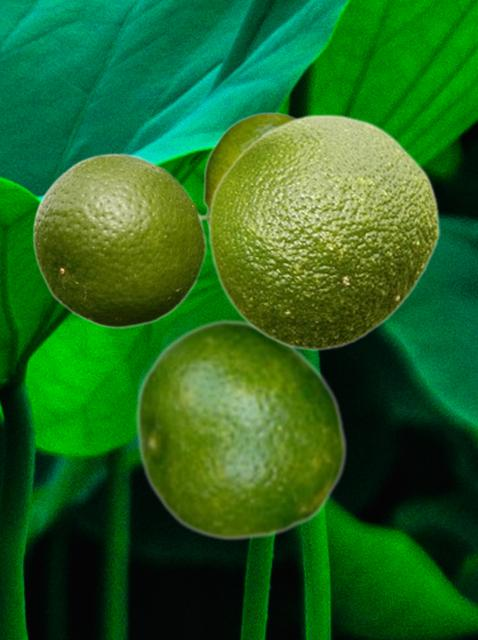calamansi: (207, 113, 439, 351), (134, 318, 347, 540), (32, 151, 206, 328), (200, 111, 295, 229)
